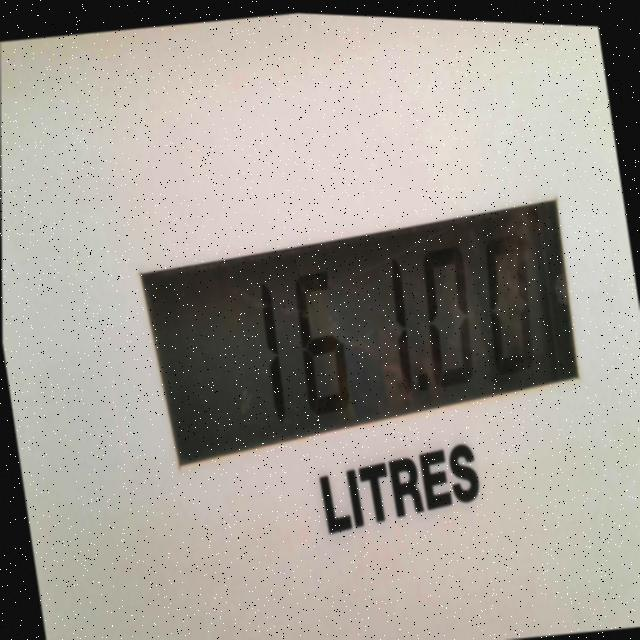.: (410, 351, 437, 404)
0: (408, 237, 486, 394), (472, 221, 545, 377)
1: (360, 244, 418, 402), (245, 271, 299, 431)
6: (281, 257, 359, 420)
